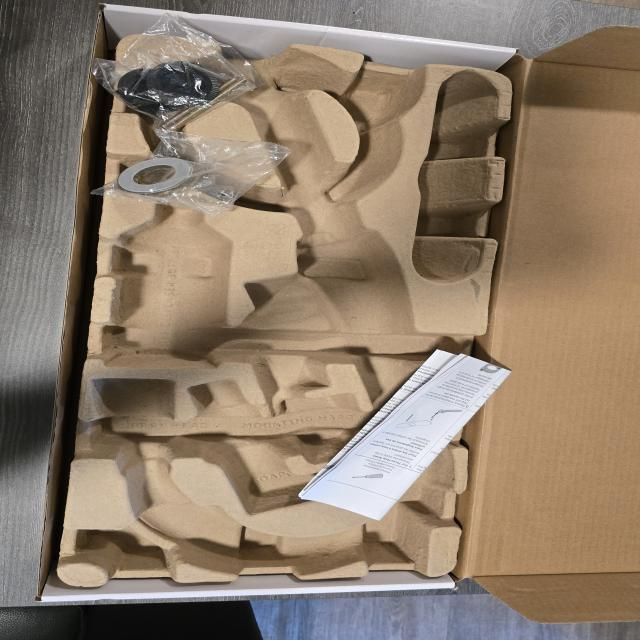1m: (96, 40, 452, 571)
2m: (189, 381, 387, 513)
3m: (106, 194, 234, 371)
4m: (417, 71, 503, 281)
5m: (346, 69, 419, 129)
6: (92, 127, 294, 213)
7: (94, 12, 271, 128)
8: (293, 349, 512, 523)
